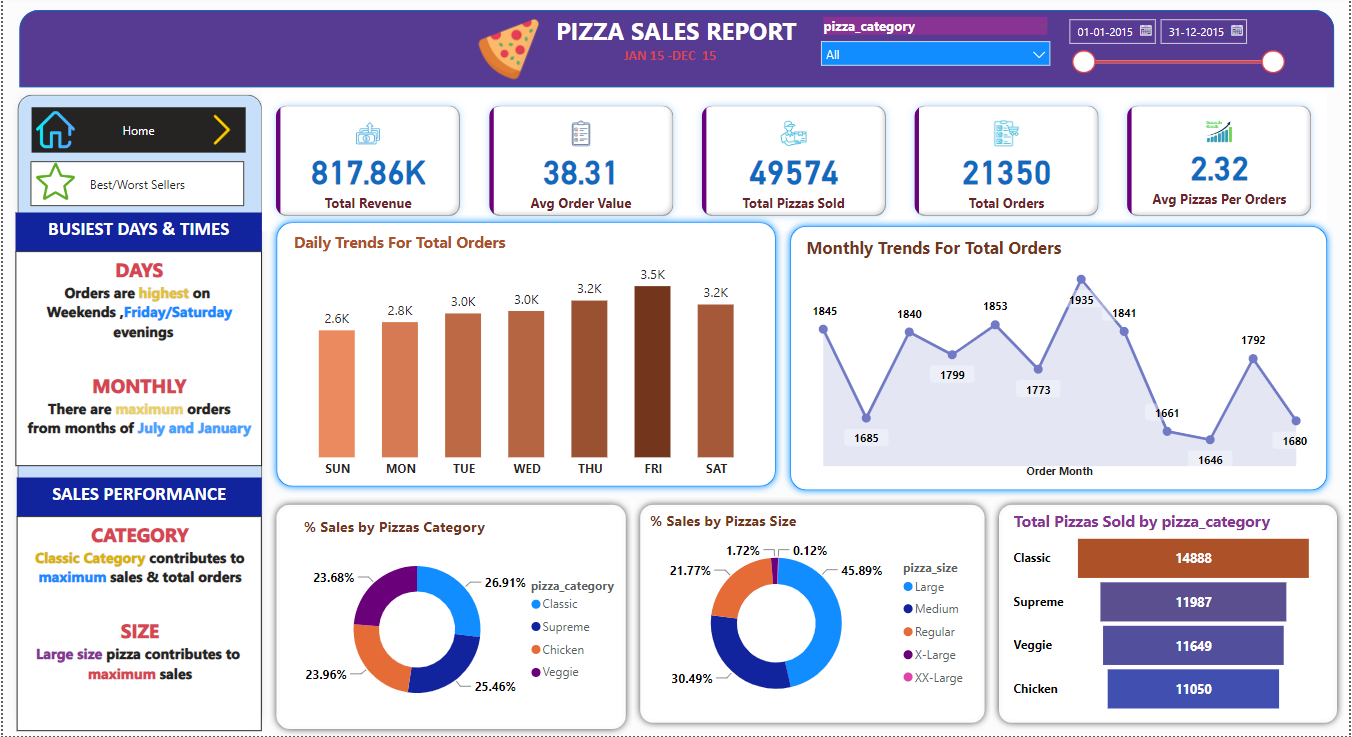

What the dashboard file says about the page in this screenshot:
{"tool":"powerbi","page":{"name":"Home","canvas":[1500,820],"ordinal":0},"visuals":[{"type":"shape","box":[8.4,97.5,288.2,722.5],"z":0},{"type":"cardVisual","fields":{"Data":["pizza_sales.Toatl Revenue","pizza_sales.Avg Order Value","pizza_sales.Total Pizzas Sold","pizza_sales.Total Orders","pizza_sales.Avg Pizzas Per Orders"]},"box":[288.2,101.6,1186.1,155.9],"z":1000},{"type":"shape","box":[18.1,11.1,1464.6,86.3],"z":2000},{"type":"textbox","box":[584.7,11.1,329.9,51.5],"z":3000},{"type":"textbox","box":[686.3,47.3,130.9,30.6],"z":4000},{"type":"image","box":[523.5,0,79.4,110],"z":5000},{"type":"shape","box":[296.5,239.5,572.2,310.5],"z":6000},{"type":"columnChart","title":"Daily Trends For Total Orders","fields":{"Category":["pizza_sales.Order Day"],"Y":["pizza_sales.Total Orders"]},"box":[318.8,257.6,530.4,284],"z":7000},{"type":"shape","box":[868.7,243.6,614,310.5],"z":8000},{"type":"areaChart","title":"Monthly Trends For Total Orders","fields":{"Category":["pizza_sales.Order Month"],"Y":["pizza_sales.Total Orders"]},"box":[889.6,263.1,575,274.3],"z":9000},{"type":"shape","box":[296.5,554.1,405.1,265.9],"z":10000},{"type":"shape","box":[701.7,554.1,399.6,258.9],"z":11000},{"type":"shape","box":[1101.2,554.1,392.6,258.9],"z":12000},{"type":"donutChart","title":"% Sales by Pizzas Category","fields":{"Category":["pizza_sales.pizza_category"],"Y":["pizza_sales.Total Revenue"]},"box":[329.9,575,371.7,231.1],"z":13000},{"type":"donutChart","title":"% Sales by Pizzas Size","fields":{"Y":["pizza_sales.Total Revenue"],"Category":["pizza_sales.pizza_size"]},"box":[715.6,568,371.7,231.1],"z":14000},{"type":"funnel","fields":{"Category":["pizza_sales.pizza_category"],"Y":["pizza_sales.Total Pizzas Sold"]},"box":[1120.7,568,343.9,231.1],"z":15000},{"type":"textbox","box":[13.9,236.7,274.3,43.2],"z":16000},{"type":"textbox","box":[13.9,279.8,274.3,239.5],"z":17000},{"type":"textbox","box":[15.3,531.8,272.9,43.2],"z":18000},{"type":"textbox","box":[15.3,575,272.9,239.5],"z":19000},{"type":"slicer","fields":{"Values":["pizza_sales.pizza_category"]},"box":[900.7,13.9,275.7,64],"z":20000},{"type":"slicer","fields":{"Values":["pizza_sales.order_date"]},"box":[1175,11.1,260.3,86.3],"z":21000},{"type":"pageNavigator","box":[32,119.7,238.1,50.1],"z":21001},{"type":"pageNavigator","box":[30.6,179.6,238.1,50.1],"z":21002},{"type":"image","box":[218.6,122.5,50.1,44.6],"z":21003},{"type":"image","box":[32,115.6,52.9,57.1],"z":21004},{"type":"image","box":[32,174,52.9,55.7],"z":21005}]}

Visuals, with their boxes in screenshot pixels (x1, y1, x2, y2), scaled from the page's 1500x820 canvas onto the 1352x737 screenshot:
shape: region(8, 88, 267, 736)
cardVisual - pizza_sales.Toatl Revenue x pizza_sales.Avg Order Value: region(260, 91, 1329, 231)
shape: region(16, 10, 1336, 88)
textbox: region(527, 10, 824, 56)
textbox: region(619, 43, 737, 70)
image: region(472, 0, 543, 99)
shape: region(267, 215, 783, 494)
"Daily Trends For Total Orders" columnChart: region(287, 232, 765, 487)
shape: region(783, 219, 1336, 498)
"Monthly Trends For Total Orders" areaChart: region(802, 236, 1320, 483)
shape: region(267, 498, 632, 736)
shape: region(632, 498, 993, 731)
shape: region(993, 498, 1346, 731)
"% Sales by Pizzas Category" donutChart: region(297, 517, 632, 725)
"% Sales by Pizzas Size" donutChart: region(645, 511, 980, 718)
funnel - pizza_sales.pizza_category x pizza_sales.Total Pizzas Sold: region(1010, 511, 1320, 718)
textbox: region(13, 213, 260, 252)
textbox: region(13, 251, 260, 467)
textbox: region(14, 478, 260, 517)
textbox: region(14, 517, 260, 732)
slicer - pizza_sales.pizza_category: region(812, 12, 1060, 70)
slicer - pizza_sales.order_date: region(1059, 10, 1294, 88)
pageNavigator: region(29, 108, 243, 153)
pageNavigator: region(28, 161, 242, 206)
image: region(197, 110, 242, 150)
image: region(29, 104, 77, 155)
image: region(29, 156, 77, 206)
